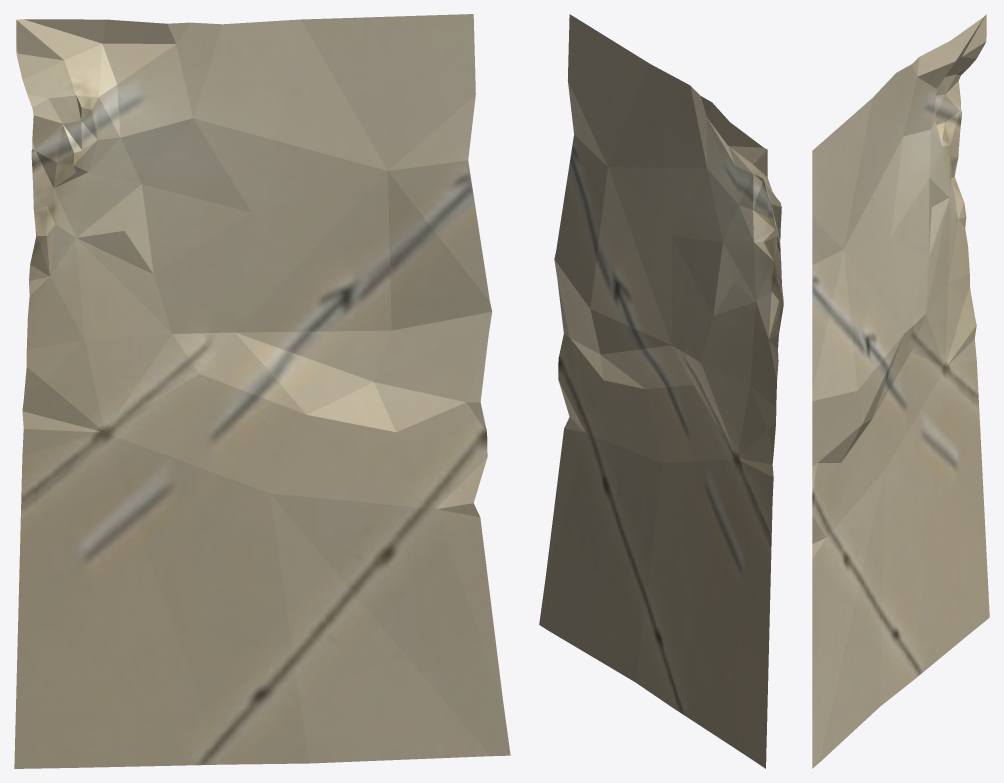
3 views of the same model, side by side, from view 1: azimuth 30°, elevation 25°; view 2: azimuth 150°, elevation 25°; view 3: azimuth 270°, elevation 25° (orthographic). The views are drawn at different scales.
Size of the model in its own units: 0.9007 by 1.67 by 0.4466.
Materials: 1 (1 with a texture image).
